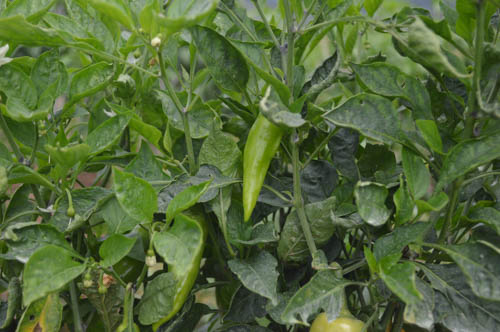ChiliPepper: (155, 221, 215, 316), (245, 100, 280, 224)
